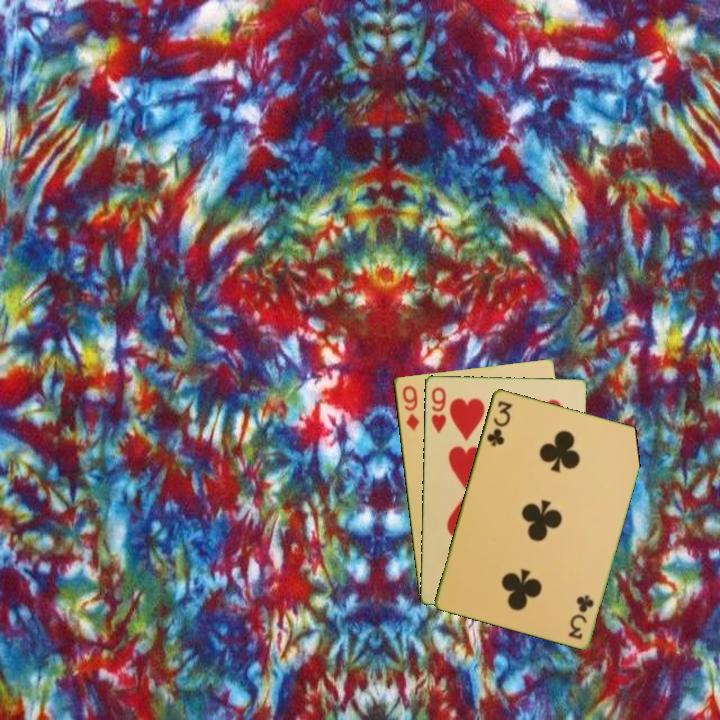3c: (483, 397, 515, 449), (565, 591, 597, 642)
9d: (399, 382, 422, 433)
9h: (427, 384, 449, 435)
